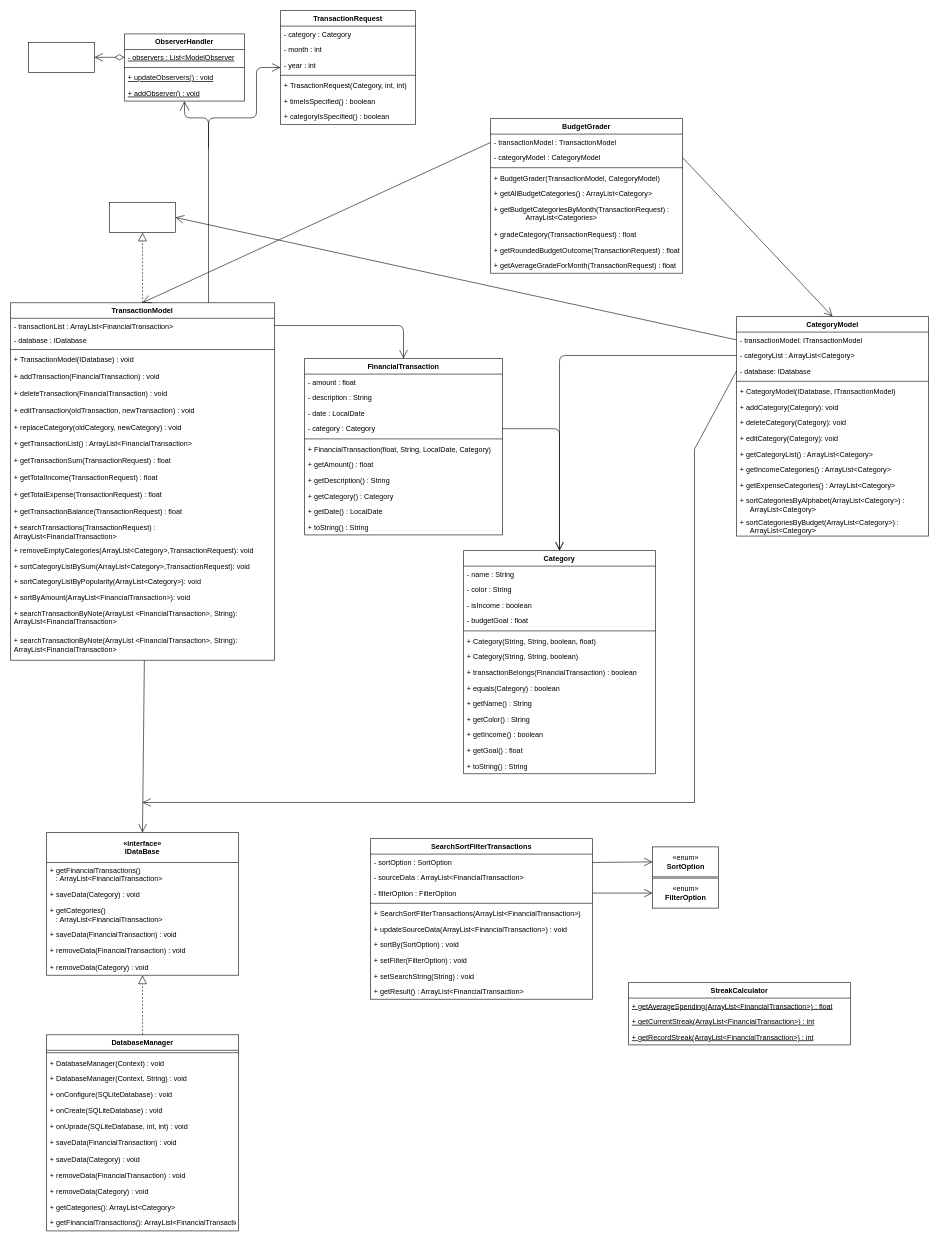
Image size: 939x1243. Some labels were removed from this diagram. The shapes that lost their labels are listed below. From the top down, each one's centre as x and y in pixels, then its label:
the point at 61,57: «interface» ModelObserver
the point at 142,217: «interface» ITransactionModel
